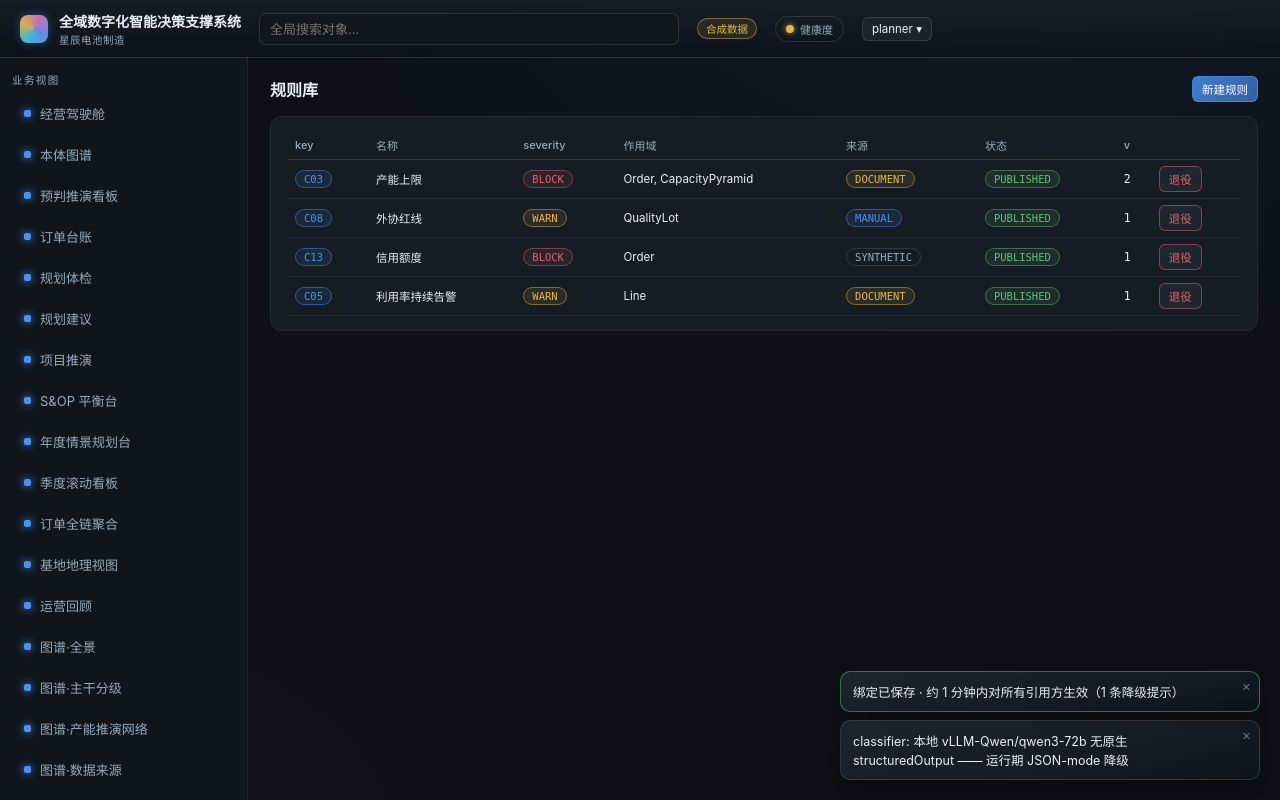
F37 · 发布确认（引用模式增量 §2.3） › 规则发布：先展示影响面清单与「发布并立即生效于 n 个引用方」确认语，确认后提示 1 分钟生效
The width and height of the screenshot is (1280, 800).
Expected: the text with test id "rule-origin-C03" is shown, [846,170,915,188]
新建一条 DRAFT 规则再发布（fixtures 全为 PUBLISHED）
Click the button with test id "rule-create" at (1225, 89), box [1192,76,1258,102]
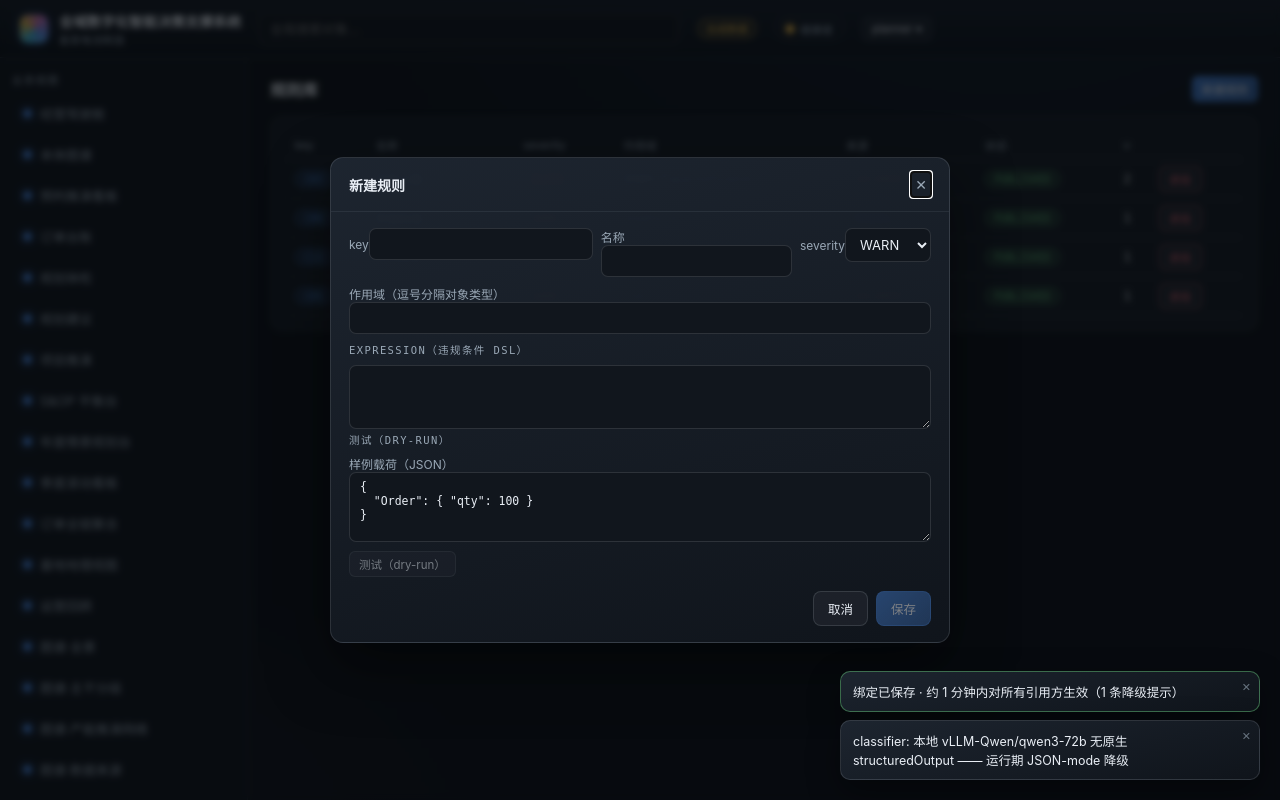
Type "C99" into the field with test id "rule-key-input" at (481, 244), box [369,228,593,260]
Type "新规则" into the field with test id "rule-name-input" at (696, 261), box [601,245,792,277]
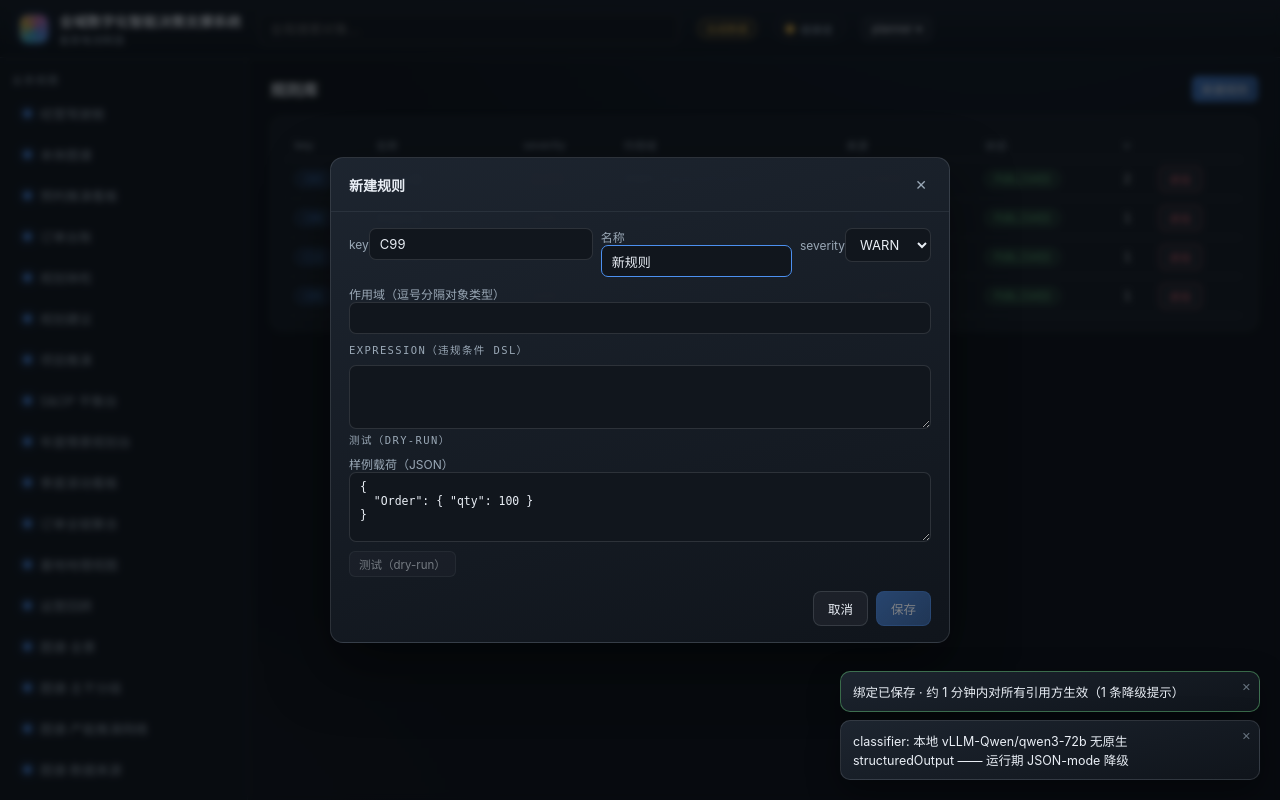
Type "Order.qty > 10" into the text box with test id "rule-expression" at (640, 397), box [349,365,931,429]
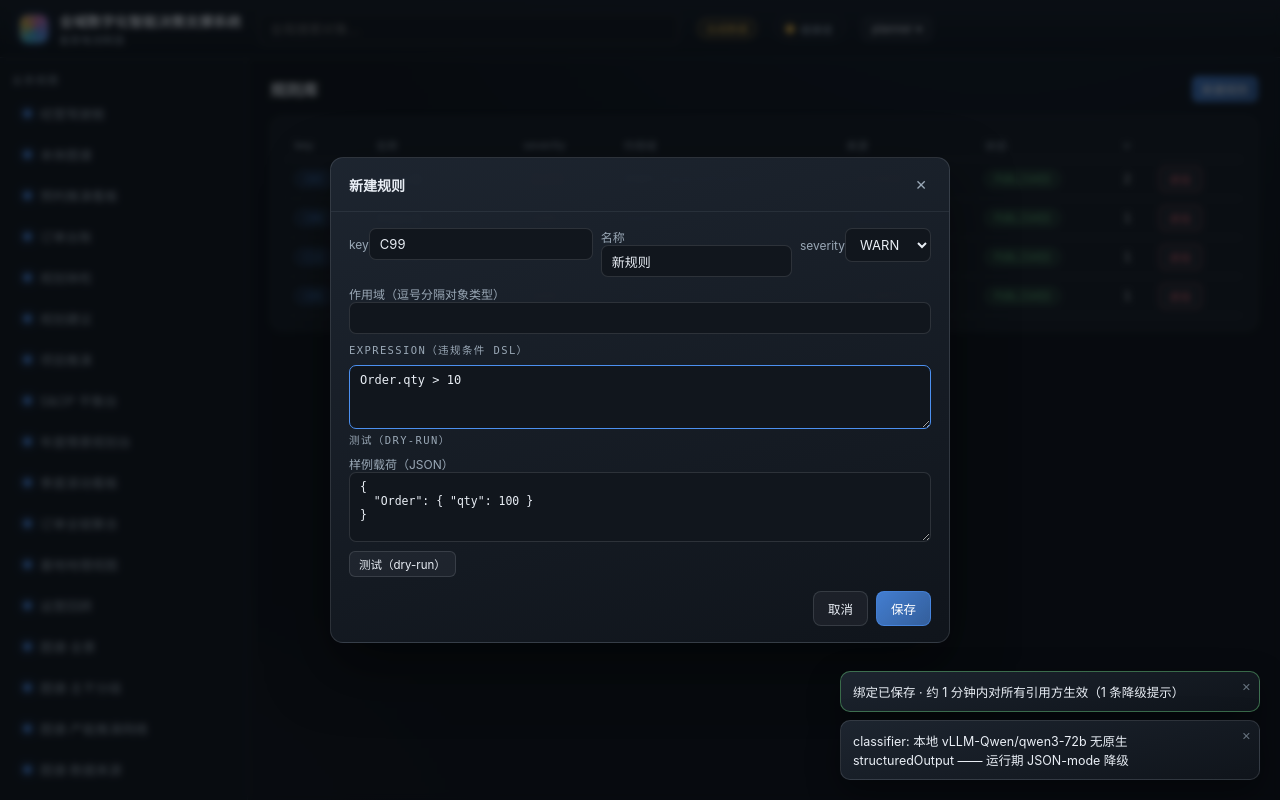
Click the button with test id "rule-save" at (904, 608), box [876,591,931,626]
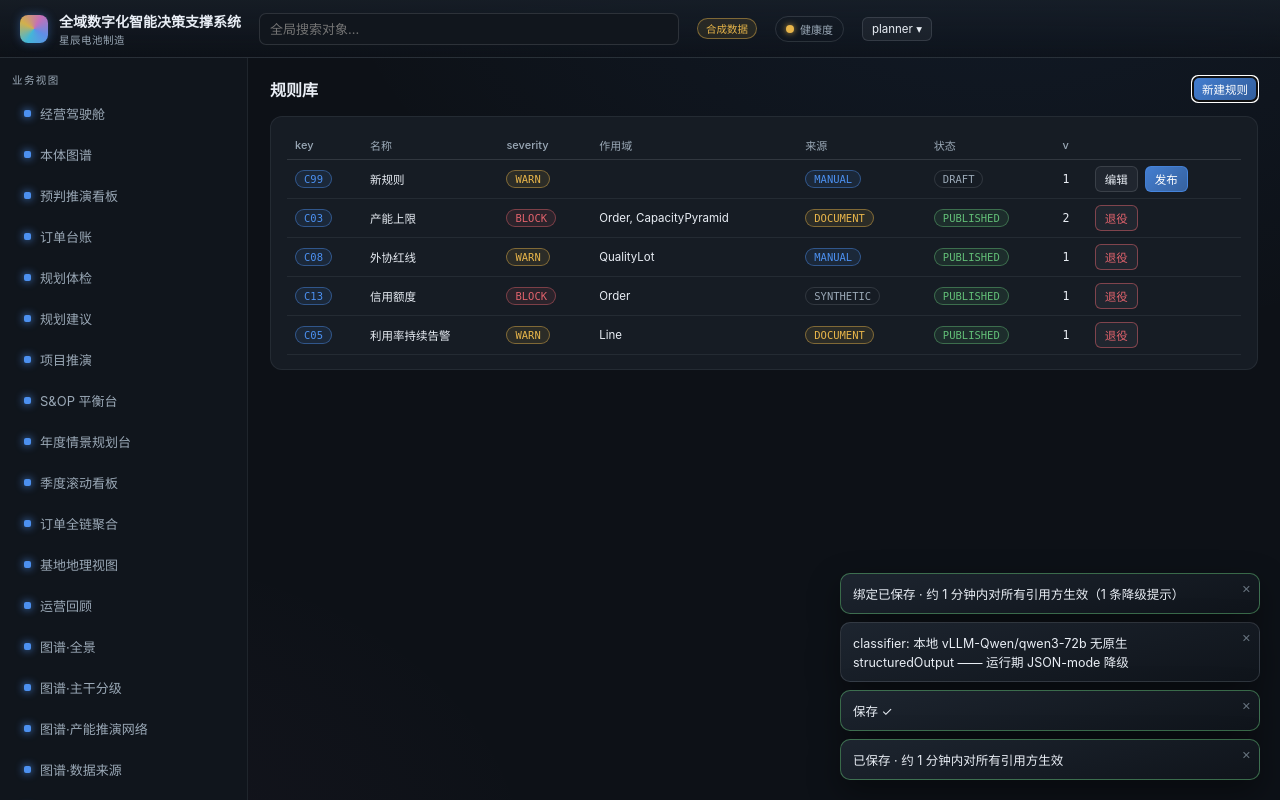
Click the button with test id "rule-publish-C99" at (1166, 179), box [1145,166,1188,192]
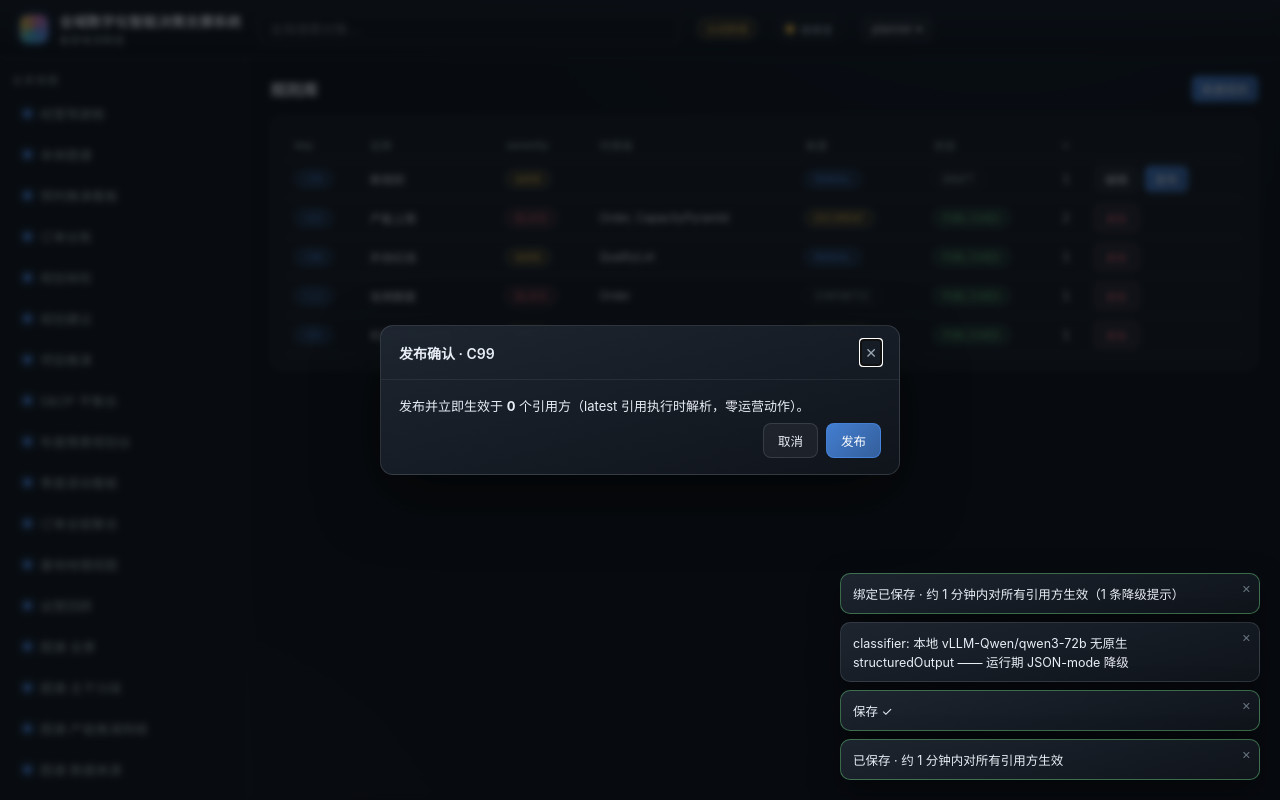
Expected: the element with test id "publish-impact-summary" reads "发布并立即生效于 0 个引用方（latest 引用执行时解析，零运营动作）。", [399,396,881,415]
Click the button with test id "publish-confirm-button" at (854, 440), box [826,423,881,458]
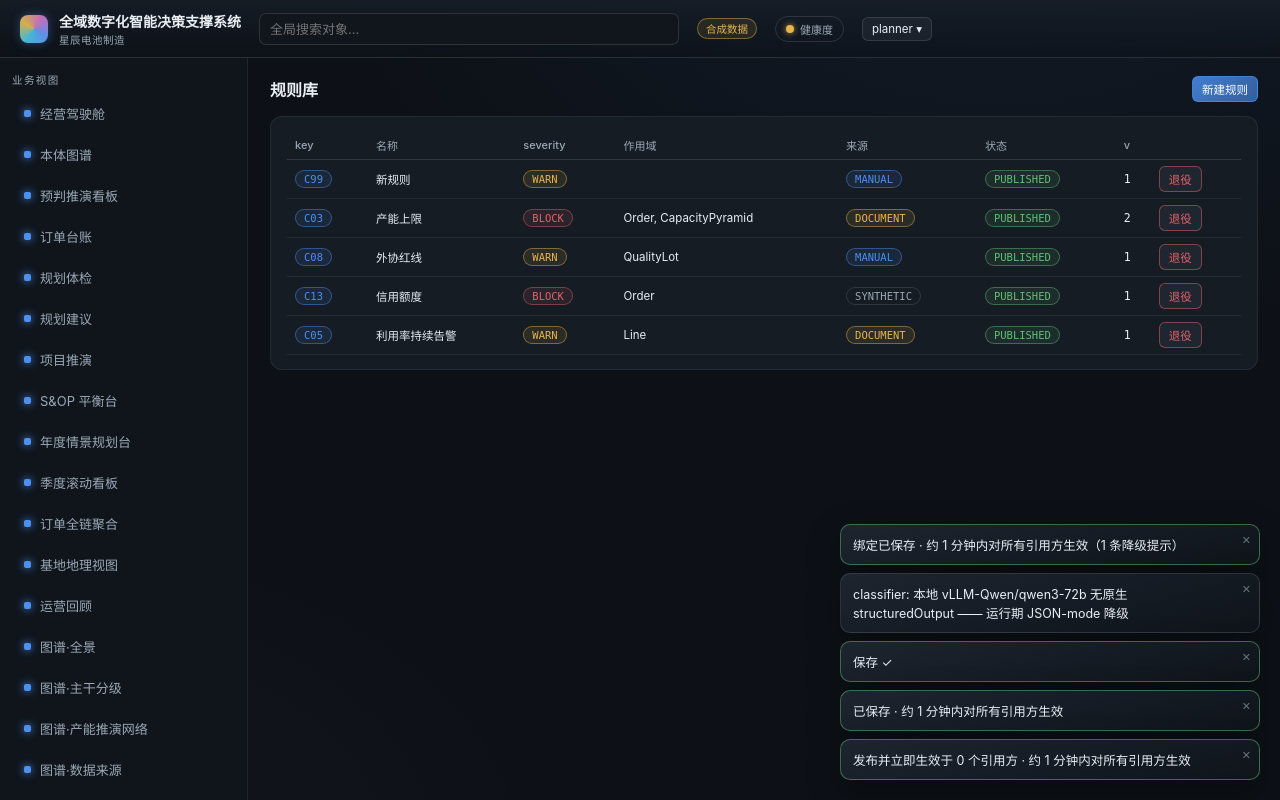
Expected: the text "发布并立即生效于 0 个引用方 · 约 1 分钟内对所有引用方生效" is shown, [853,750,1191,769]
